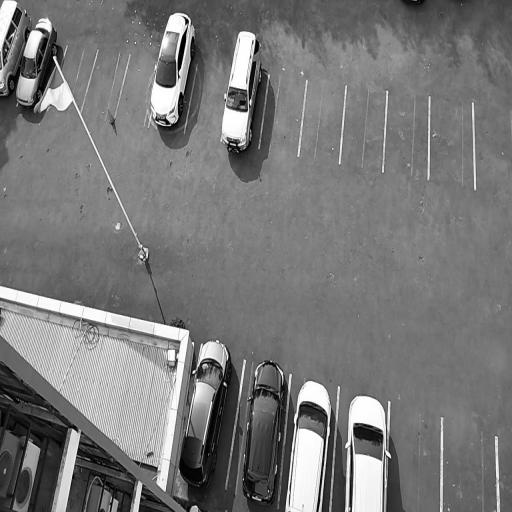Car: (226, 348, 289, 509), (175, 337, 235, 489), (143, 9, 203, 137), (283, 371, 334, 512), (216, 27, 269, 157), (342, 385, 388, 512), (13, 10, 66, 110)
Space Available: (386, 399, 442, 512), (443, 417, 498, 512), (428, 94, 476, 188), (258, 74, 307, 156), (340, 87, 388, 170), (383, 91, 429, 177), (299, 81, 346, 163), (474, 102, 512, 194), (184, 62, 229, 139), (81, 49, 130, 116), (115, 53, 156, 123), (60, 45, 97, 113)
